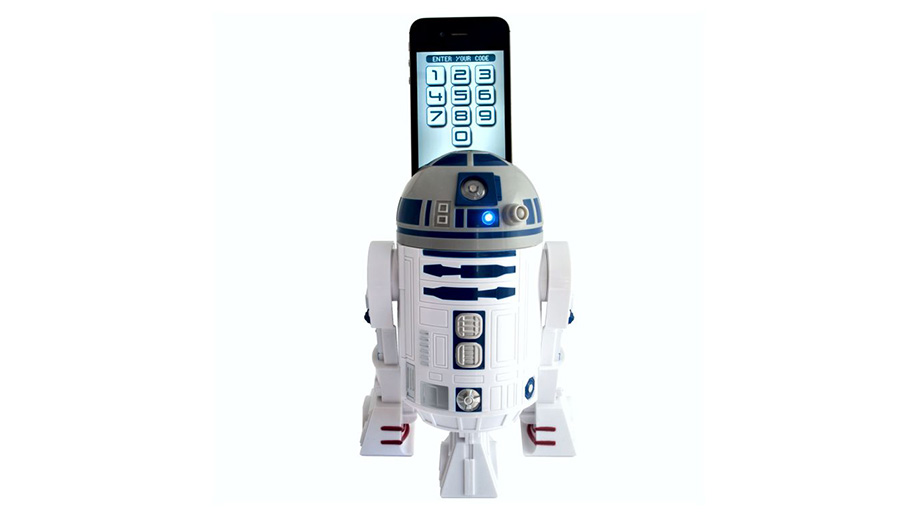r2d2: (368, 153, 572, 497)
